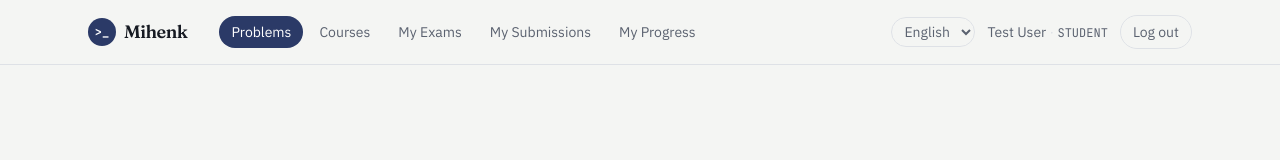
language switching › starts in English and switches the interface to Turkish
Expected: the link "Problems" is shown, [220, 16, 303, 48]
Select "Türkçe" in the dropdown named "language": (933,32) [891, 17, 975, 47]
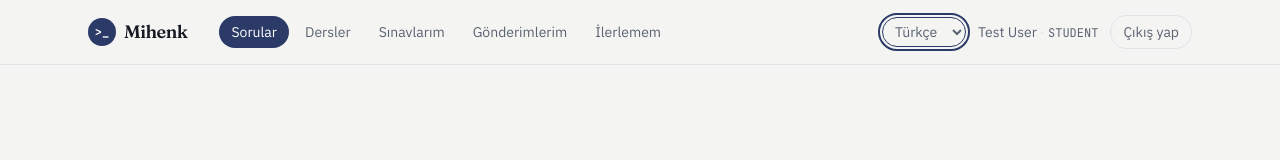
Expected: the link "Sorular" is shown, [220, 16, 289, 48]
Expected: the link "Problems" is gone
